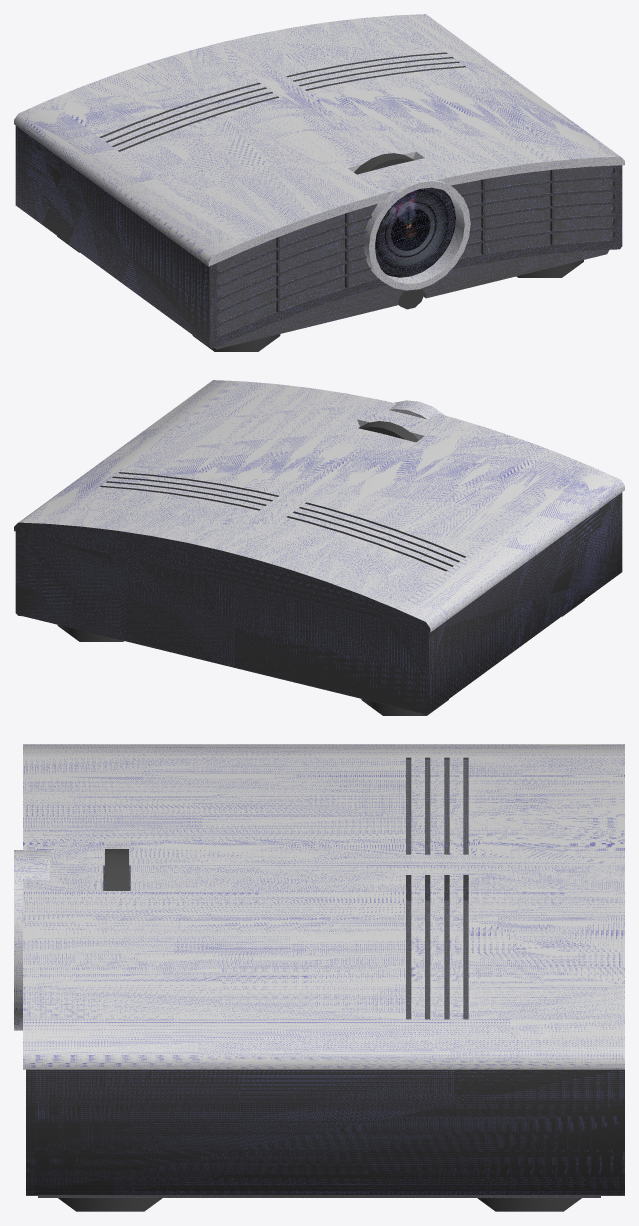
The model's file is projector.dae.
3 renders of one model, top to bottom at view 1: azimuth 30°, elevation 25°; view 2: azimuth 150°, elevation 25°; view 3: azimuth 270°, elevation 25°, orthographic. The views are drawn at different scales.
Visible parts, largest first — view 1: Component_3 (×27), Component_7 (×3), Component_6 (×2), Component_4; view 2: Component_3 (×2), Component_4, Component_7, Component_6; view 3: Component_3 (×7), Component_6 (×2), Component_7, Component_4.
Part boxes in pixels (box(x1,y1,x2,y2)): Component_3 (×27): box(14, 14, 624, 349); Component_7 (×3): box(363, 172, 470, 290); Component_6 (×2): box(192, 260, 583, 351); Component_4: box(354, 153, 414, 174); Component_3 (×2): box(14, 380, 624, 715); Component_4: box(358, 421, 418, 442); Component_7: box(389, 400, 445, 419); Component_6: box(361, 699, 448, 715); Component_3 (×7): box(23, 744, 624, 1197); Component_6 (×2): box(58, 1198, 581, 1211); Component_7: box(14, 850, 49, 1030); Component_4: box(105, 849, 128, 890).
Size of the model in its own units: 12.2 by 10.04 by 3.92.
Materials: 5 (1 with a texture image).
